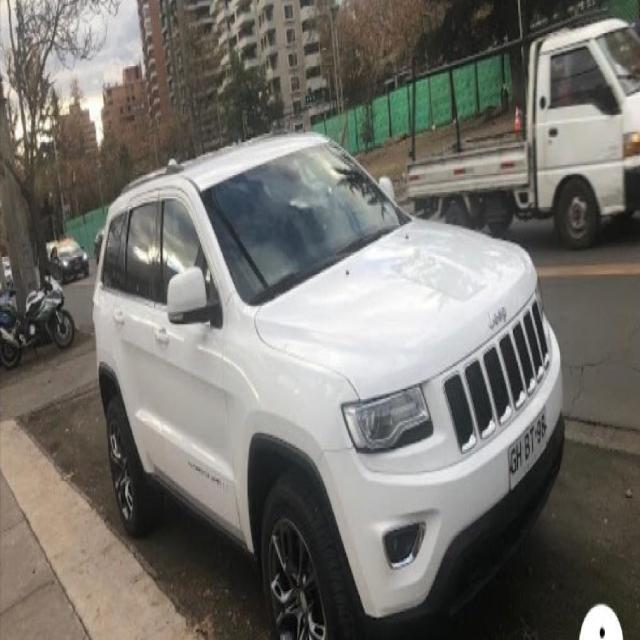patente: (506, 405, 548, 491)
